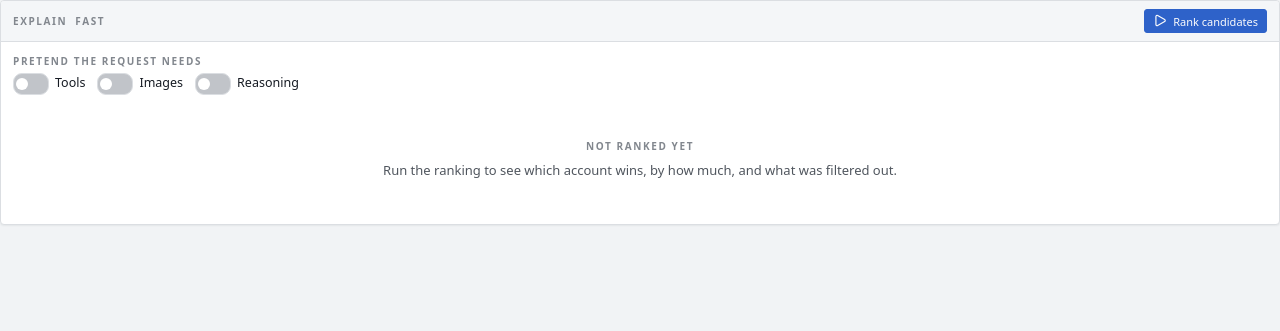
Test: ExplainPanel › an empty candidate set explains itself rather than showing a blank list
Click the button "Rank candidates" at point(1206, 21), box x1=1144 y1=9 x2=1267 y2=33
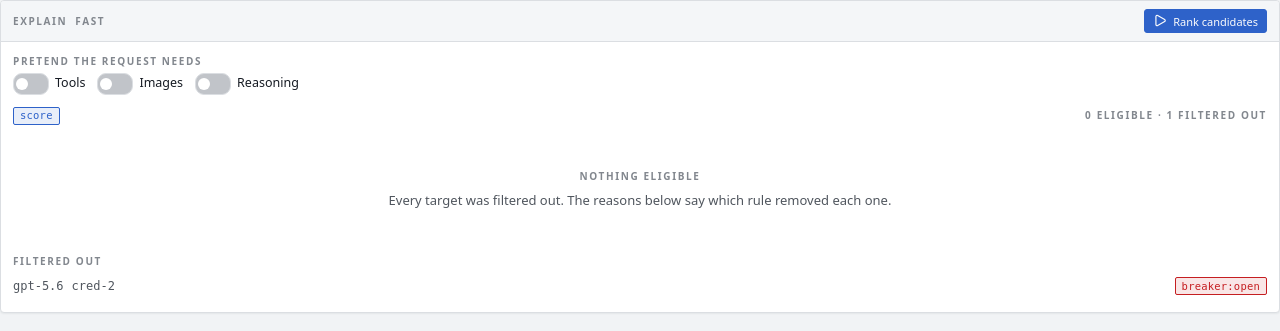
Now the text "Every target was filtered out. The reasons below say which rule removed each one." is shown, box x1=389 y1=191 x2=892 y2=209
